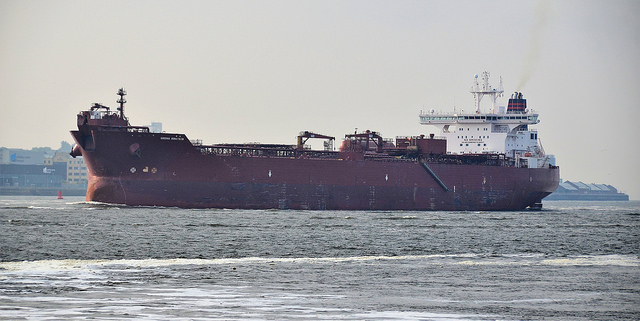tanker: (64, 78, 563, 214)
